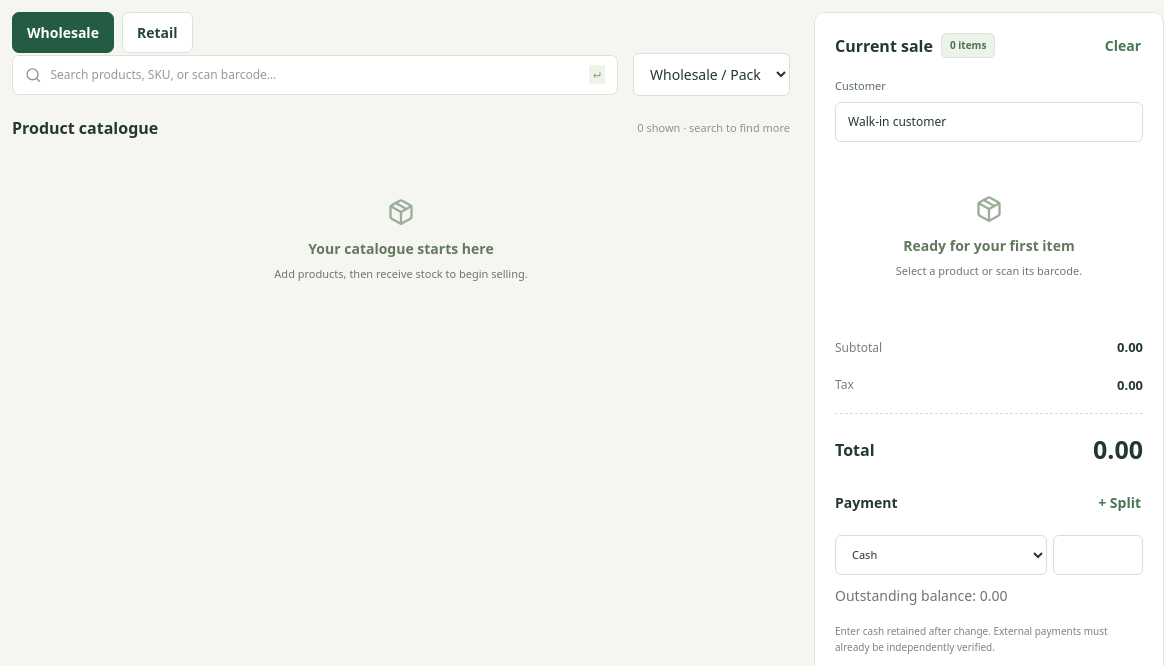
Test case: clears the customer and split payments when starting a fresh sale
Replace the text in the field labelled "Customer" with "Previous customer" at (989, 122), box top-left (835, 102), bottom-right (1143, 142)
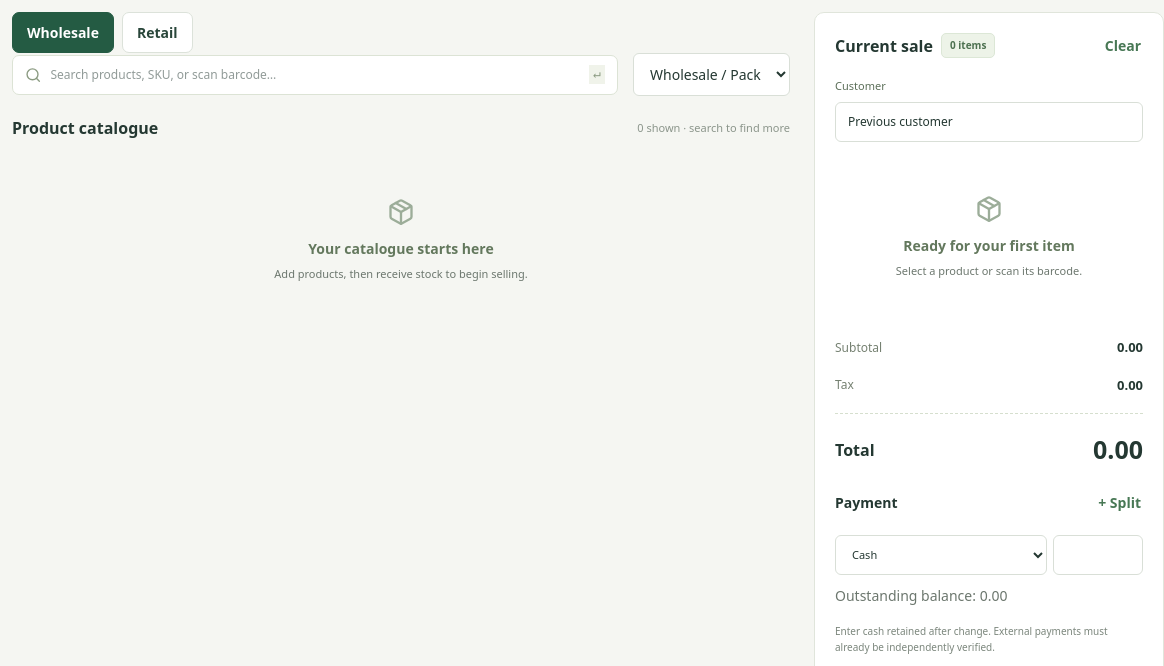
Click the button "+ Split" at (1120, 502), box top-left (1096, 490), bottom-right (1143, 515)
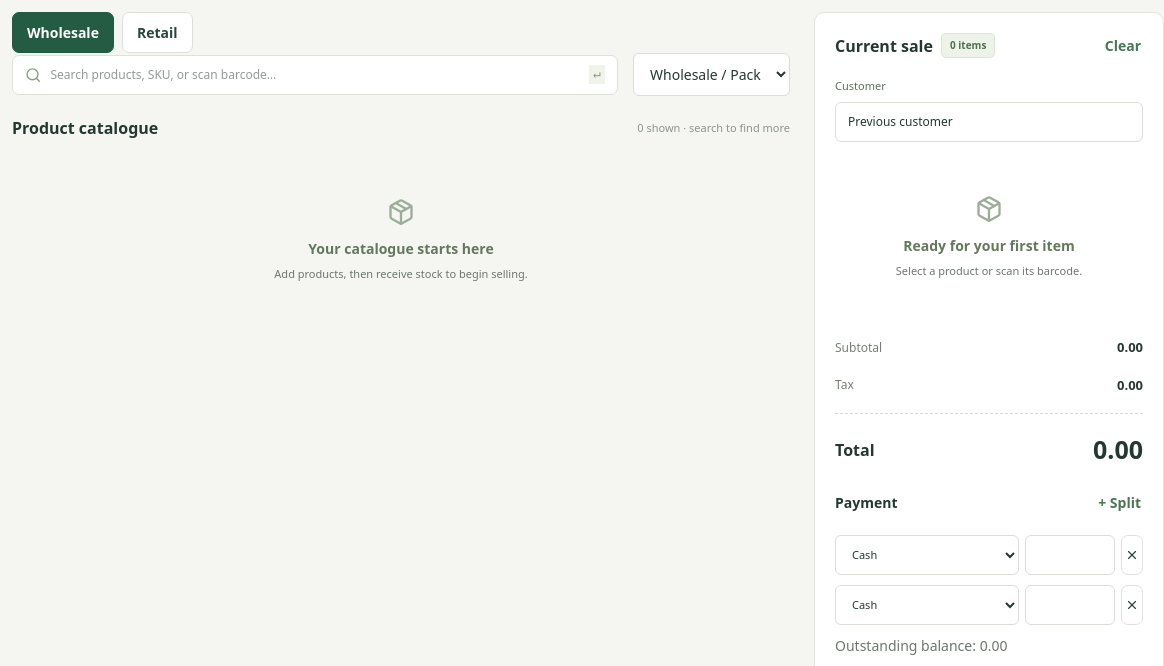
Expected: the number field named "Payment amount 2" is shown, top-left (1025, 585), bottom-right (1115, 625)
Click the button "Clear" at (1123, 46), box top-left (1103, 33), bottom-right (1143, 58)
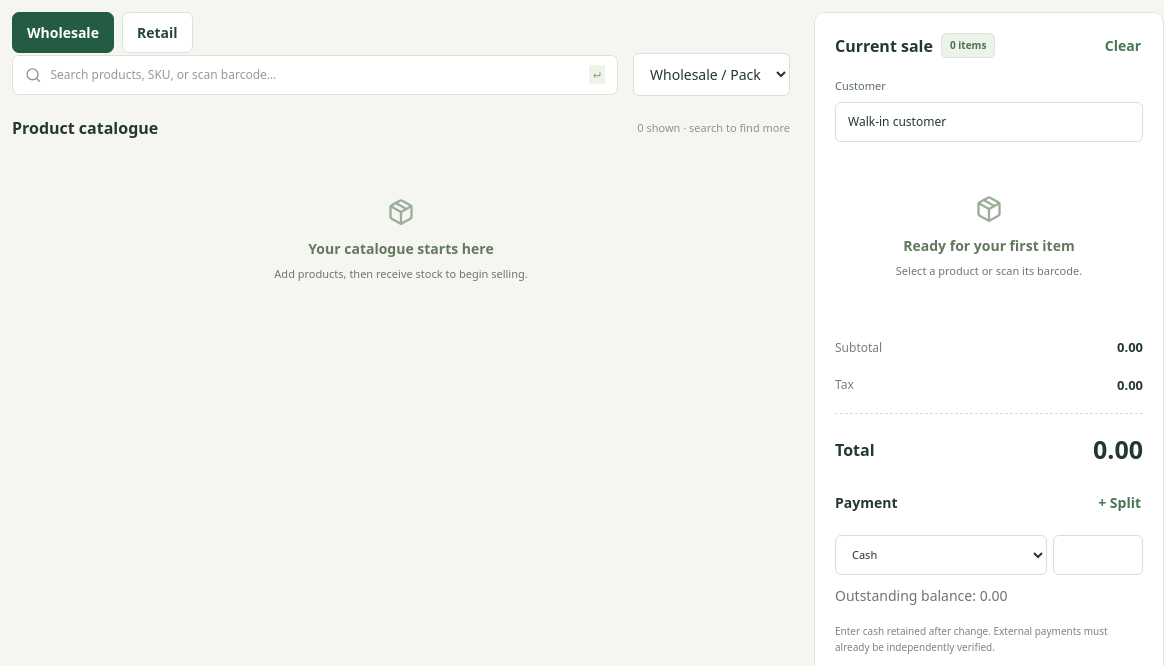
Expected: the field labelled "Customer" holds "Walk-in customer", top-left (835, 102), bottom-right (1143, 142)
